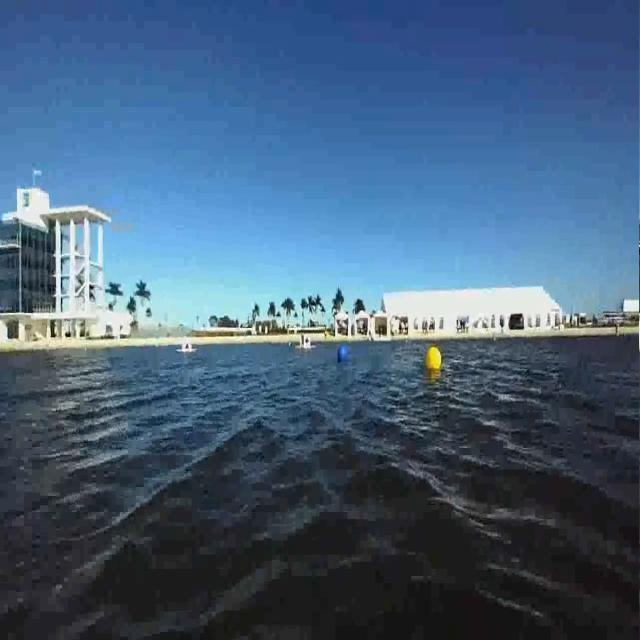blue-buoy: (333, 338, 350, 363)
yellow-buoy: (423, 347, 450, 376)
